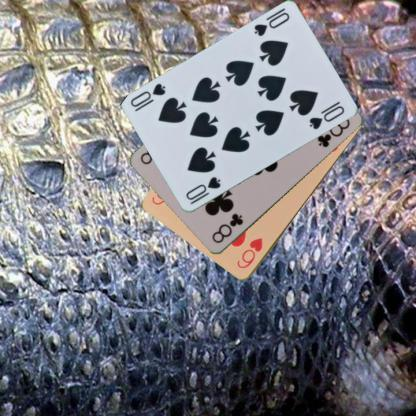10s: (183, 174, 223, 206), (250, 10, 290, 38)
6h: (234, 235, 264, 270)
8c: (209, 211, 245, 245)
